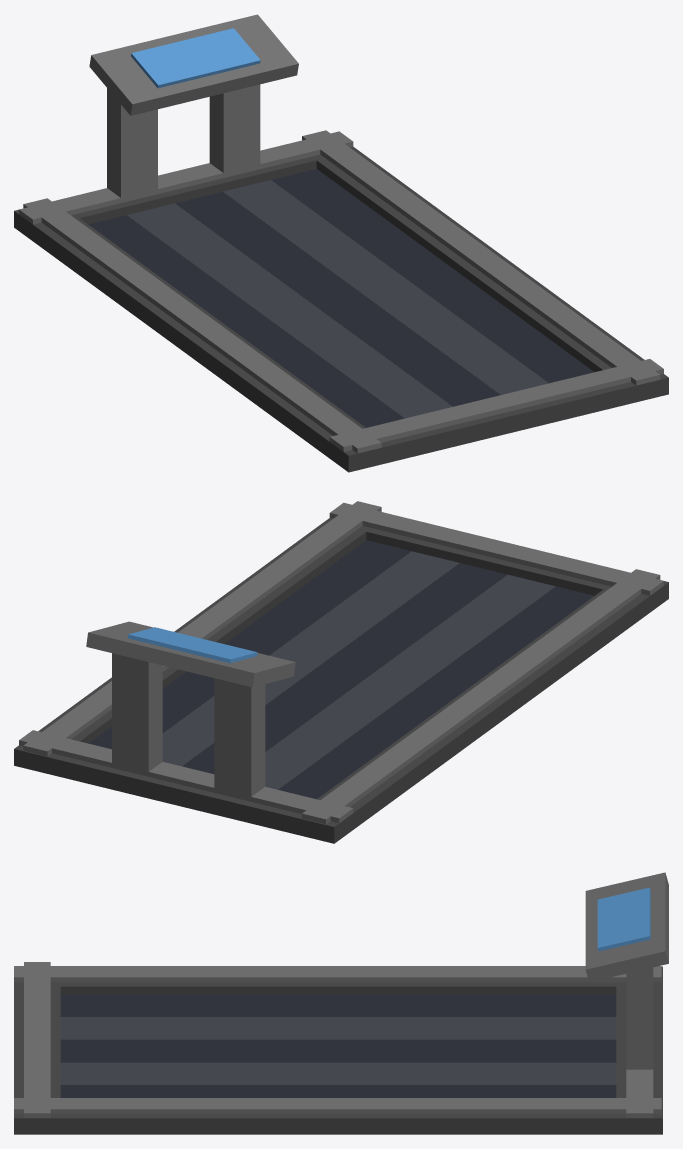
The model's file is Treadmill_Upgrade1.glb.
3 renders of one model, top to bottom at view 1: azimuth 30°, elevation 25°; view 2: azimuth 150°, elevation 25°; view 3: azimuth 270°, elevation 25°, orthographic. The views are drawn at different scales.
Parts seen in each view (by area): view 1: Cube copy copy (×5), Cube copy copy copy (×3), Cube copy (×2), Cube copy copy copy copy copy copy copy (×2), Cube copy copy copy copy (×2), Cube copy copy copy copy copy, Cube, Cube copy copy copy copy copy copy, Cube copy copy copy copy copy copy copy copy; view 2: Cube copy copy (×5), Cube copy copy copy (×3), Cube copy (×2), Cube copy copy copy copy (×2), Cube copy copy copy copy copy copy copy (×2), Cube copy copy copy copy copy copy, Cube copy copy copy copy copy, Cube, Cube copy copy copy copy copy copy copy copy; view 3: Cube copy copy (×5), Cube copy copy copy (×3), Cube copy (×2), Cube copy copy copy copy copy copy copy (×2), Cube copy copy copy copy (×2), Cube, Cube copy copy copy copy copy copy copy copy, Cube copy copy copy copy copy.
Boxes of the visible parts, x1,y1,x2,y2 form: Cube copy copy (×5): (23, 146, 668, 453); Cube copy copy copy (×3): (223, 130, 668, 472); Cube copy (×2): (14, 211, 404, 471); Cube copy copy copy copy copy copy copy (×2): (89, 14, 298, 174); Cube copy copy copy copy (×2): (14, 148, 663, 451); Cube copy copy copy copy copy: (19, 131, 353, 224); Cube: (14, 222, 668, 472); Cube copy copy copy copy copy copy: (107, 88, 157, 200); Cube copy copy copy copy copy copy copy copy: (131, 28, 260, 88); Cube copy copy (×5): (16, 518, 660, 824); Cube copy copy copy (×3): (23, 501, 668, 766); Cube copy (×2): (278, 581, 668, 842); Cube copy copy copy copy (×2): (14, 502, 663, 843); Cube copy copy copy copy copy copy copy (×2): (86, 621, 295, 771); Cube copy copy copy copy copy copy: (214, 678, 265, 796); Cube copy copy copy copy copy: (19, 730, 353, 823); Cube: (335, 592, 668, 842); Cube copy copy copy copy copy copy copy copy: (127, 627, 257, 663); Cube copy copy (×5): (14, 966, 661, 1134); Cube copy copy copy (×3): (14, 982, 661, 1134); Cube copy (×2): (14, 982, 661, 1016); Cube copy copy copy copy copy copy copy (×2): (585, 872, 668, 1069); Cube copy copy copy copy (×2): (24, 962, 662, 1134); Cube: (14, 1128, 661, 1134); Cube copy copy copy copy copy copy copy copy: (597, 887, 650, 951); Cube copy copy copy copy copy: (626, 1069, 653, 1118).
Size of the model in its own units: 10 by 4.55 by 18.27.
